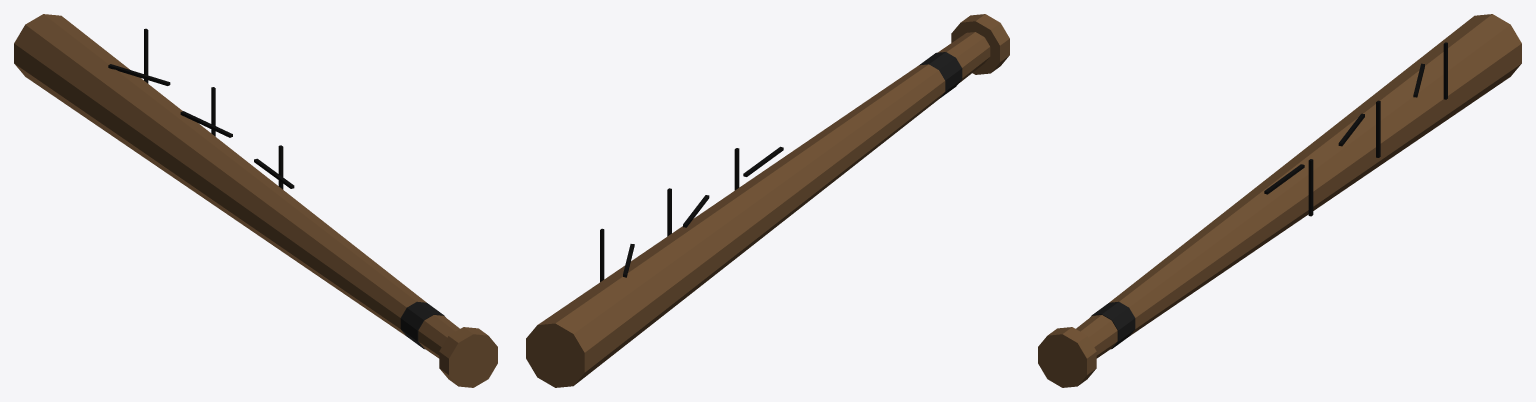
File: bat_w1.glb
3 renders of one model, left to right at view 1: azimuth 30°, elevation 25°; view 2: azimuth 150°, elevation 25°; view 3: azimuth 330°, elevation 25°, orthographic.
Visible parts, largest first — view 1: bat_w1; view 2: bat_w1; view 3: bat_w1.
Part boxes in pixels (x1=…): bat_w1: x1=14, y1=14, x2=497, y2=387; bat_w1: x1=526, y1=14, x2=1009, y2=387; bat_w1: x1=1038, y1=14, x2=1521, y2=387.
Bounding box in the file's own units: 0.0685 × 0.108 × 0.87.
